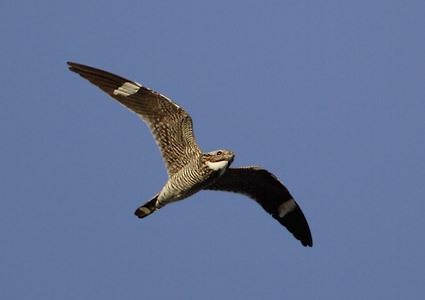bird: (66, 59, 315, 250)
